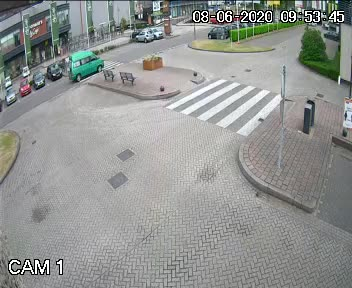car: (66, 53, 108, 76), (42, 58, 64, 82)
